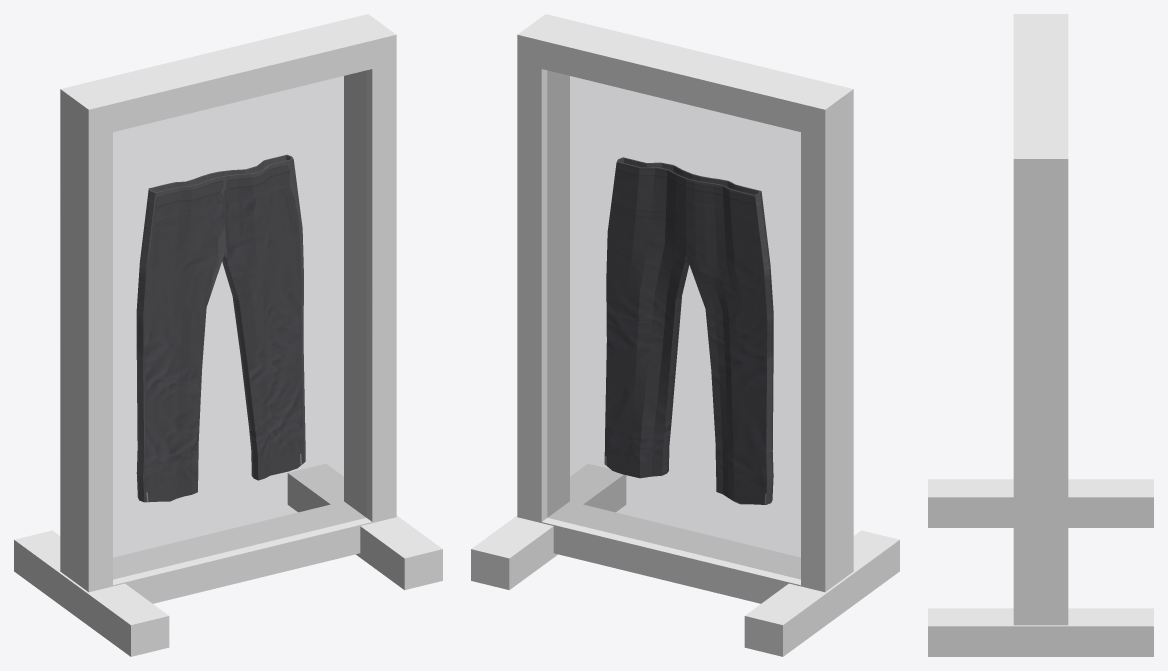
Rendered from chino_grey.gltf.
3 renders of one model, left to right at view 1: azimuth 30°, elevation 25°; view 2: azimuth 150°, elevation 25°; view 3: azimuth 270°, elevation 25°, orthographic. The views are drawn at different scales.
Visible parts, largest first — view 1: Cube.006, Plane.012; view 2: Cube.006, Plane.012; view 3: Cube.006.
Part boxes in pixels (x1,y1,x2,y2): Cube.006: [14, 14, 442, 656]; Plane.012: [136, 154, 305, 502]; Cube.006: [471, 14, 899, 656]; Plane.012: [604, 157, 773, 504]; Cube.006: [928, 14, 1153, 656].
Size of the model in its own units: 0.4462 by 0.7029 by 0.2894.
Materials: 4 (1 with a texture image).
